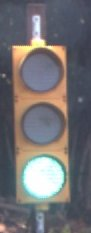Green: (12, 35, 83, 206)
